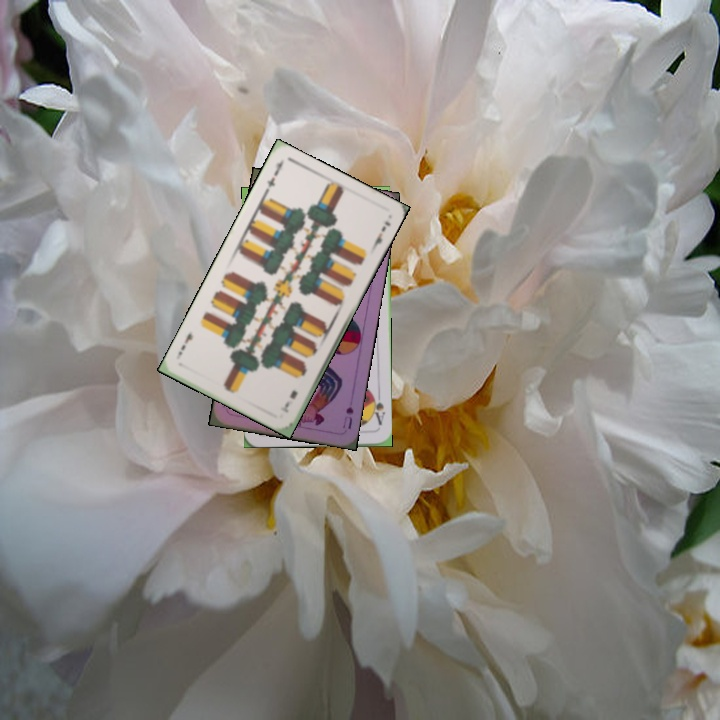E7: (261, 158, 285, 196), (277, 386, 300, 415)
SA: (367, 389, 387, 427)
SU: (338, 402, 356, 432)
